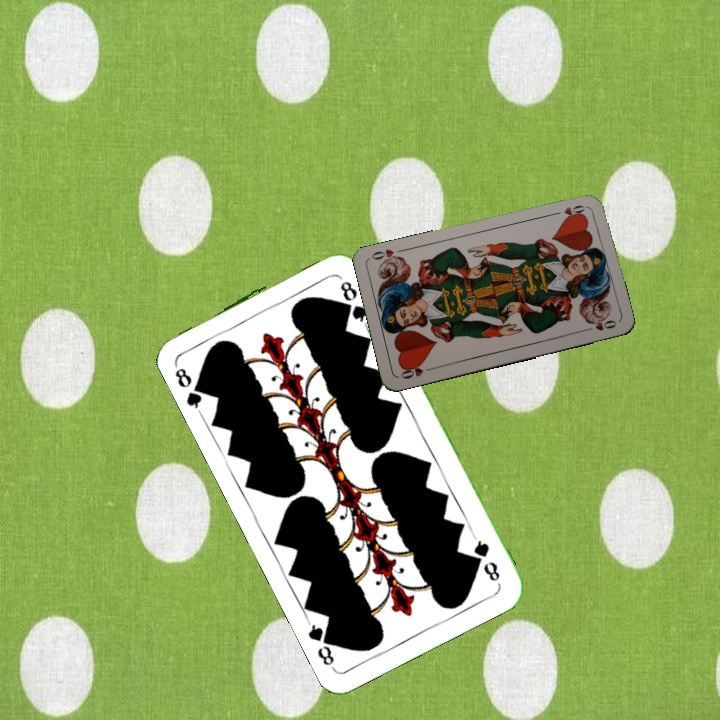G8: (169, 358, 210, 414), (469, 531, 503, 585)
HO: (396, 360, 435, 381), (560, 201, 591, 222)
